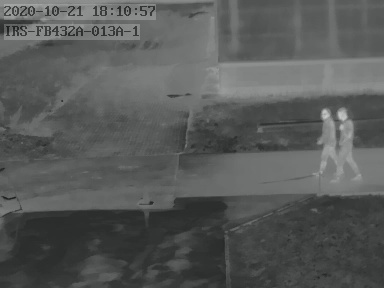person: (337, 107, 363, 184), (313, 109, 336, 178)
